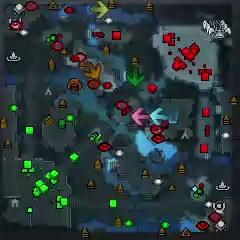x1: (131, 107, 149, 126)
x2: (91, 0, 109, 18)
x3: (151, 108, 168, 125)
x4: (125, 67, 145, 87)
x5: (84, 61, 102, 80)
